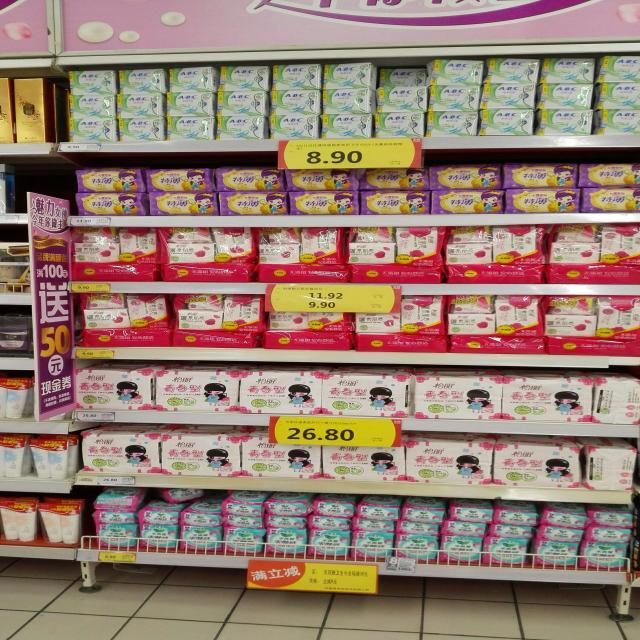empty: (6, 157, 73, 216)
